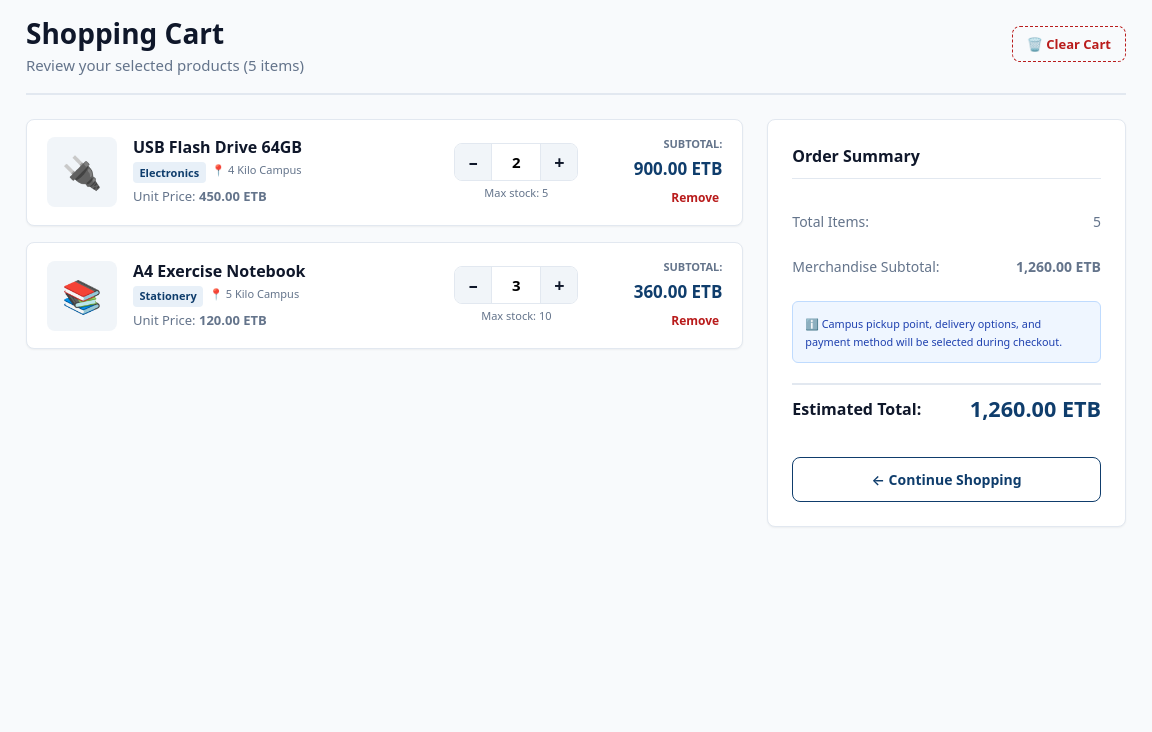
Test: CartPage Component › updates item quantity and recalculates totals
Click the button named "Increase quantity for USB Flash Drive 64GB" at (559, 162), box [541,144,577,180]
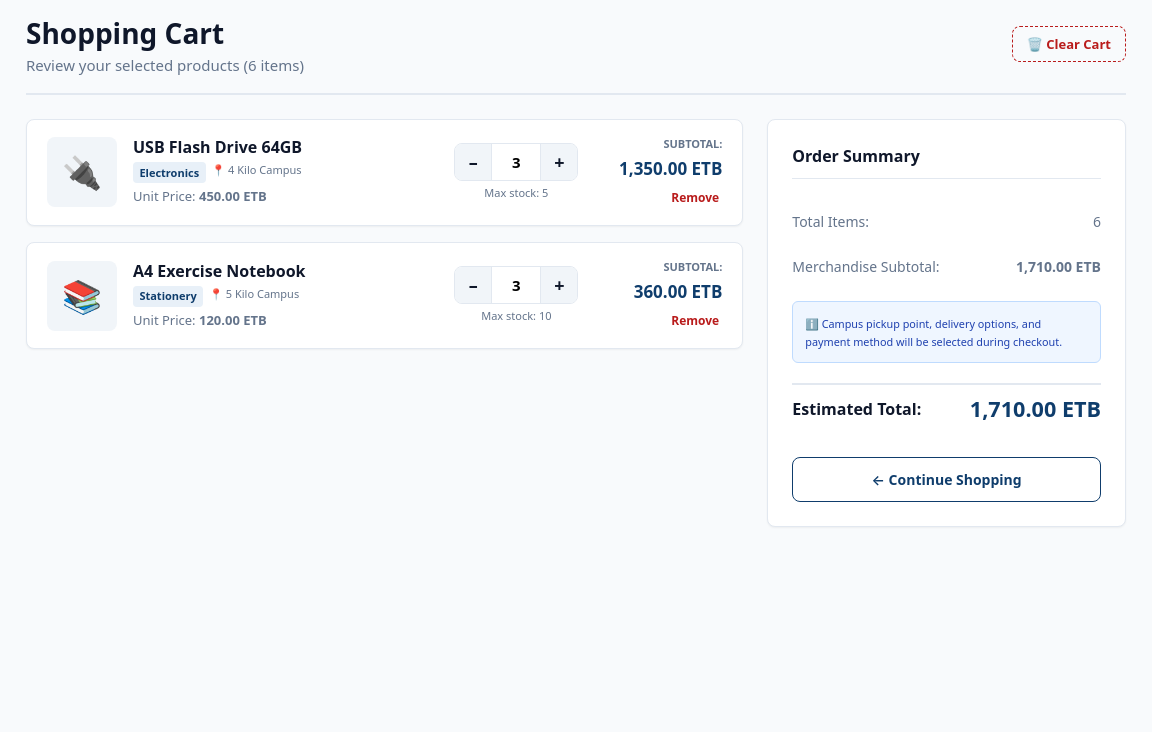
Expected: the text "1,710.00 ETB" is shown 2 times, [1016,256,1101,276]; [970,393,1101,425]
Result: the text "1,350.00 ETB" is shown at [619,156,722,182]
